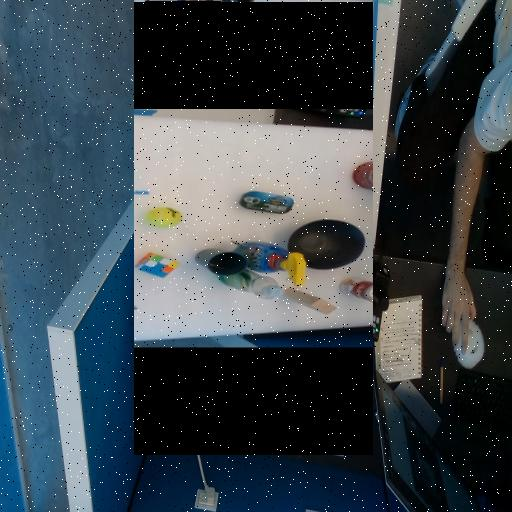bowl: (211, 263, 261, 338)
cleanser: (182, 193, 213, 258)
coffee_can: (292, 328, 320, 407)
jaco: (145, 18, 221, 67)
meat_can: (268, 214, 289, 267)
mug: (206, 183, 232, 209)
mustard_bottle: (246, 356, 266, 435)
rubik: (203, 111, 227, 153)
soup_can: (179, 315, 202, 368)
tennis_ball: (254, 128, 274, 147)
windex: (195, 214, 239, 280)
wooden_block: (167, 260, 192, 311)
workspace: (134, 114, 373, 341)
